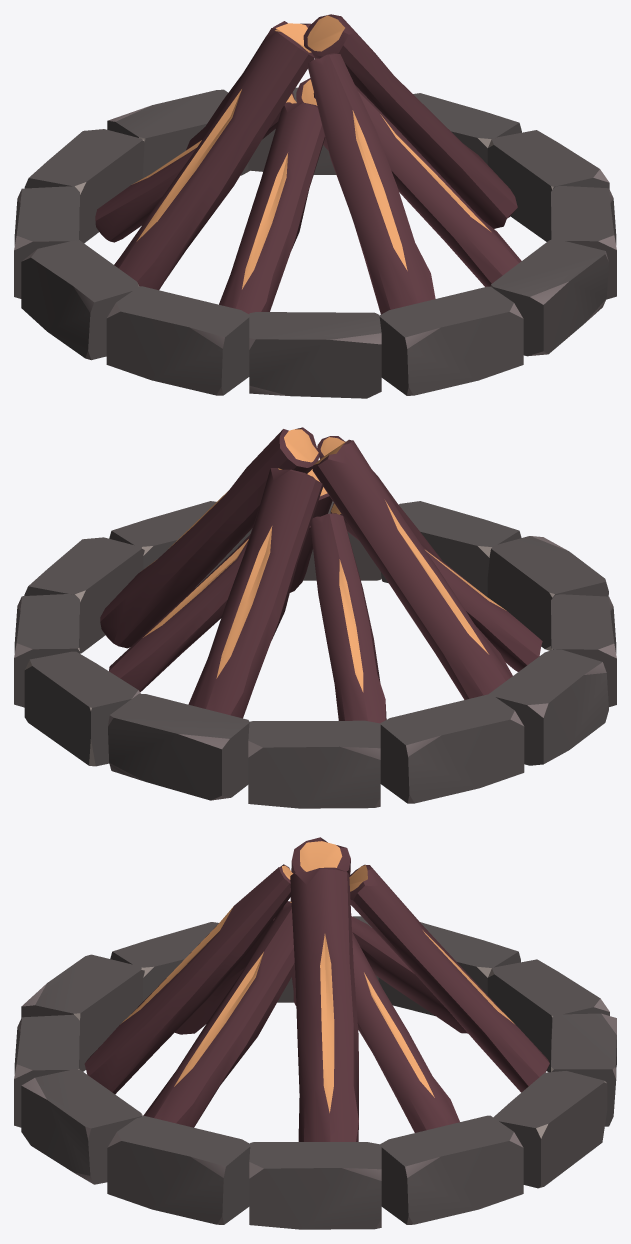
Rendered from Fogueira1.fbx.
The picture shows the model from 3 angles, top to bottom: view 1: azimuth 30°, elevation 25°; view 2: azimuth 150°, elevation 25°; view 3: azimuth 270°, elevation 25°; orthographic projection.
Visible parts, largest first — view 1: Cylinder.001; view 2: Cylinder.001; view 3: Cylinder.001.
Part boxes in pixels (bbox=[...]): Cylinder.001: bbox=[14, 14, 616, 398]; Cylinder.001: bbox=[14, 427, 616, 808]; Cylinder.001: bbox=[14, 837, 616, 1229].
Bounding box in the file's own units: 1.52 × 0.6886 × 1.52.
